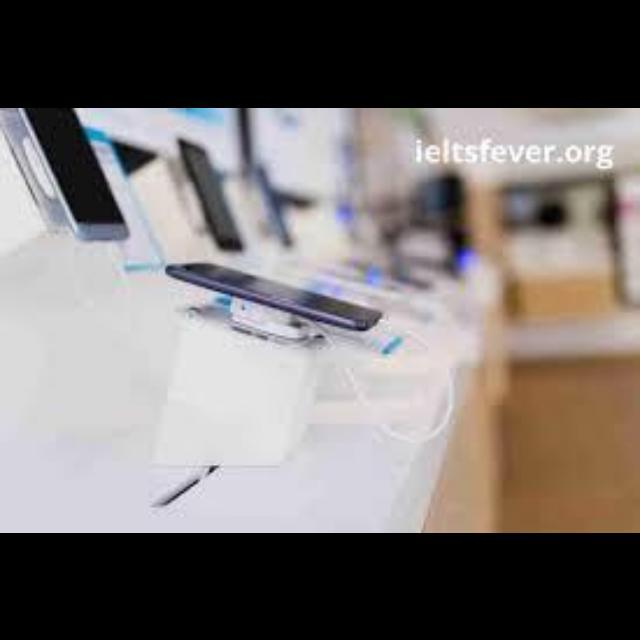Phone: (168, 258, 376, 338), (22, 108, 132, 240), (178, 138, 250, 248)
